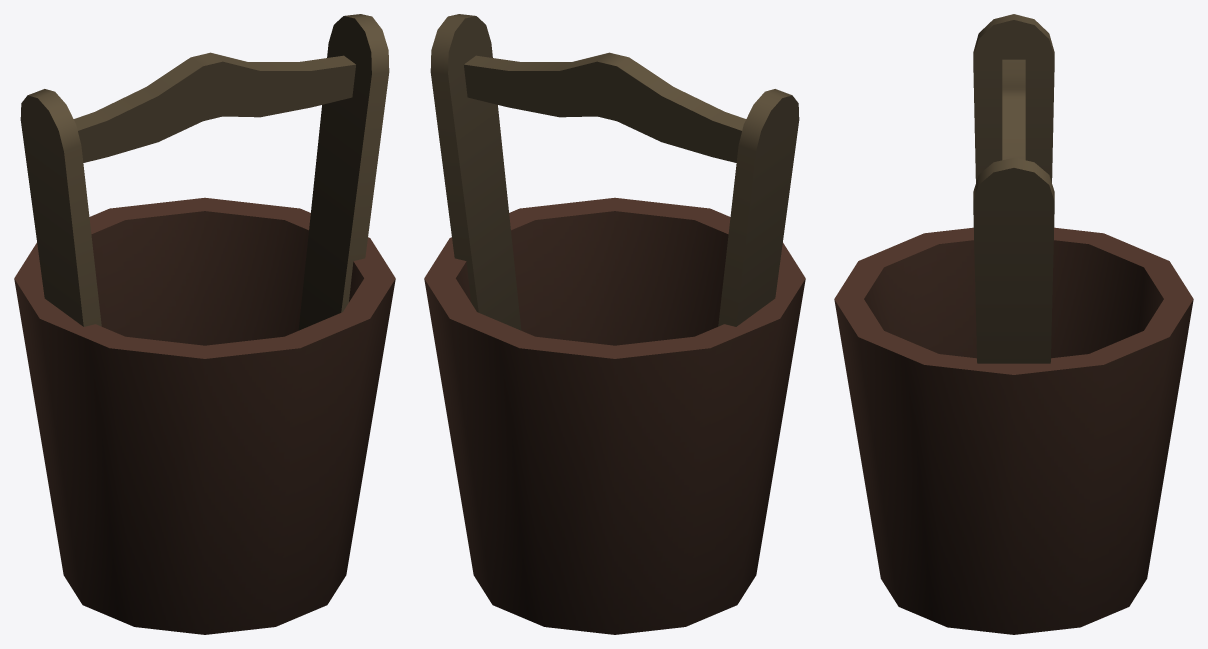
3 views of the same model, side by side, from view 1: azimuth 30°, elevation 25°; view 2: azimuth 150°, elevation 25°; view 3: azimuth 270°, elevation 25° (orthographic). The views are drawn at different scales.
Parts seen in each view (by area): view 1: WoodenPail_Slide; view 2: WoodenPail_Slide; view 3: WoodenPail_Slide.
Part boxes in pixels (bbox=[...]): WoodenPail_Slide: bbox=[14, 14, 395, 634]; WoodenPail_Slide: bbox=[424, 14, 805, 634]; WoodenPail_Slide: bbox=[834, 14, 1193, 634].
Size of the model in its own units: 0.3366 by 0.5 by 0.3325.
